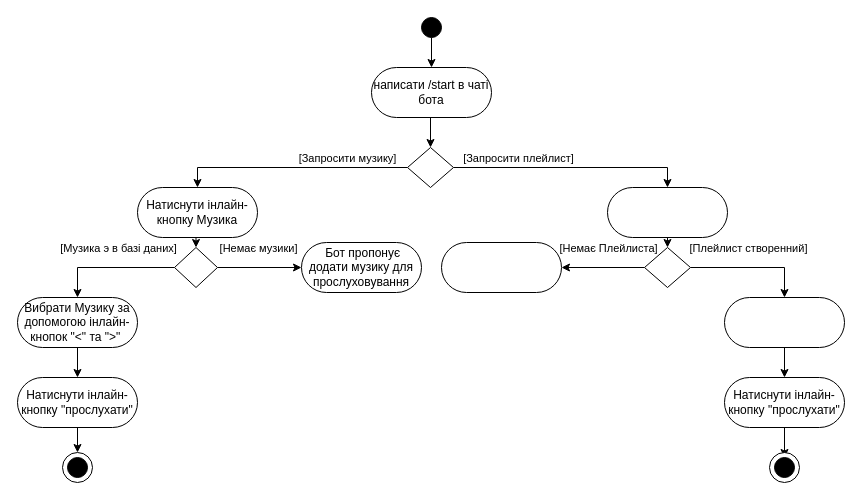
Image size: 862x500. Some labels were removed from this diagram. Each missing label, with the centre of its shape:
Бот пропонує додати Новий плейлист: point 501,267
Вибрати Плейлист за допомогою інлайн-кнопок "<" та ">": point 784,322
Натиснути інлайн-кнопку Плейлисти: point 667,212
